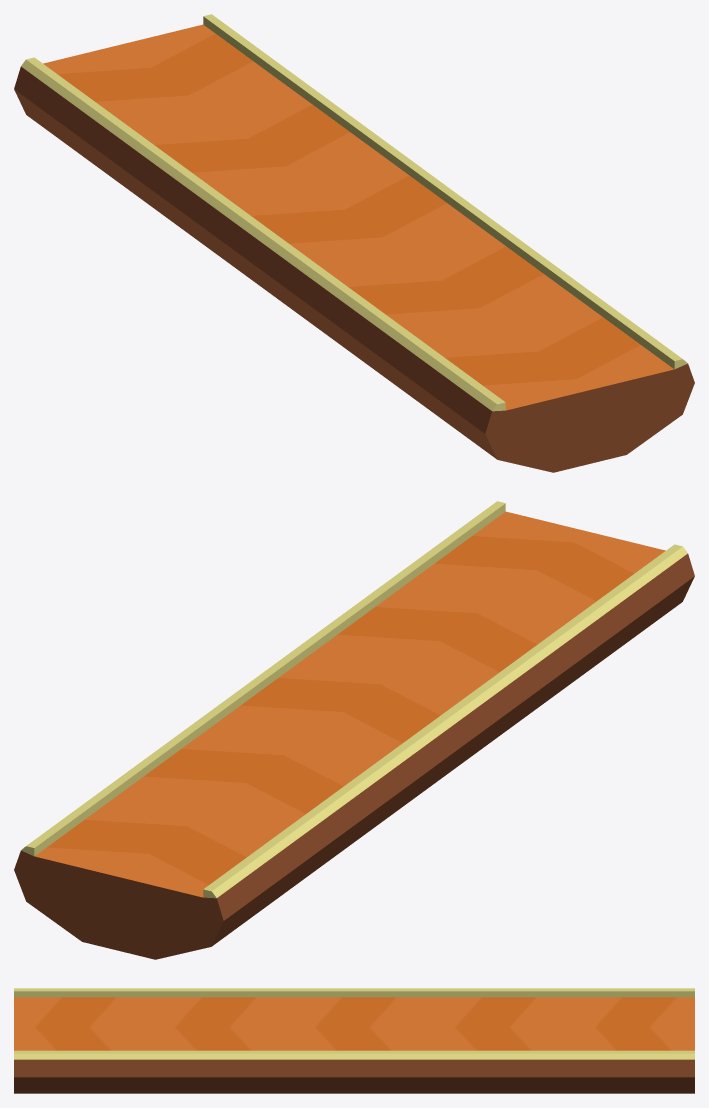
The model's file is gemi_besli_parca.fbx.
The picture shows the model from 3 angles, top to bottom: view 1: azimuth 30°, elevation 25°; view 2: azimuth 150°, elevation 25°; view 3: azimuth 270°, elevation 25°; orthographic projection. The views are drawn at different scales.
Parts seen in each view (by area): view 1: 5li; view 2: 5li; view 3: 5li.
Boxes of the visible parts, bbox=[...] form: 5li: bbox=[14, 14, 694, 472]; 5li: bbox=[14, 501, 694, 959]; 5li: bbox=[14, 988, 694, 1093].
Size of the model in its own units: 514 by 192 by 2000.
3 materials, 1 textured.
